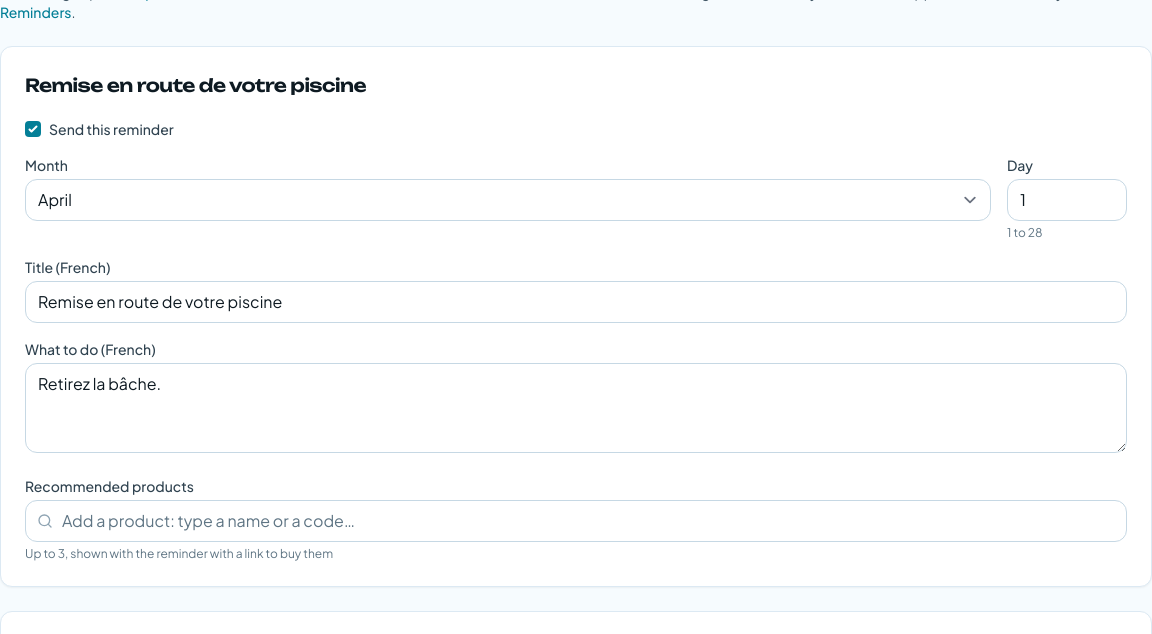
Test: admin reminders › edits the calendar in Settings → Reminders
This screenshot has width=1152, height=634.
Replace the text in the number field labelled "Day" with "15" at (1067, 200), box [1007, 179, 1127, 221]
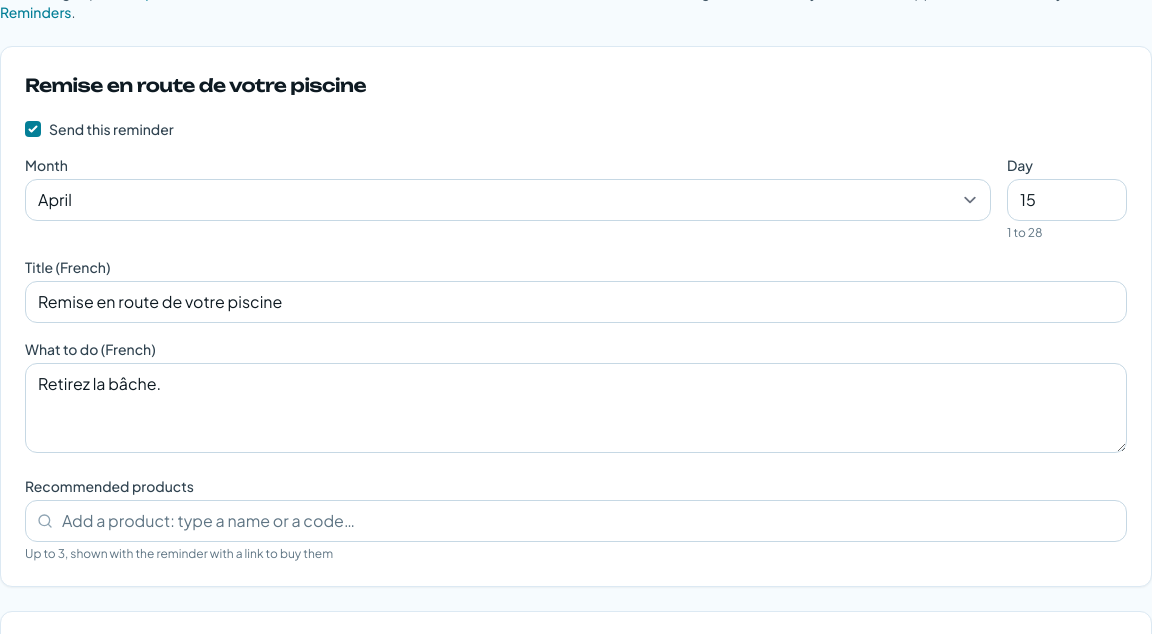
Select "March" in the dropdown labelled "Month" at (508, 200), box [25, 179, 991, 221]
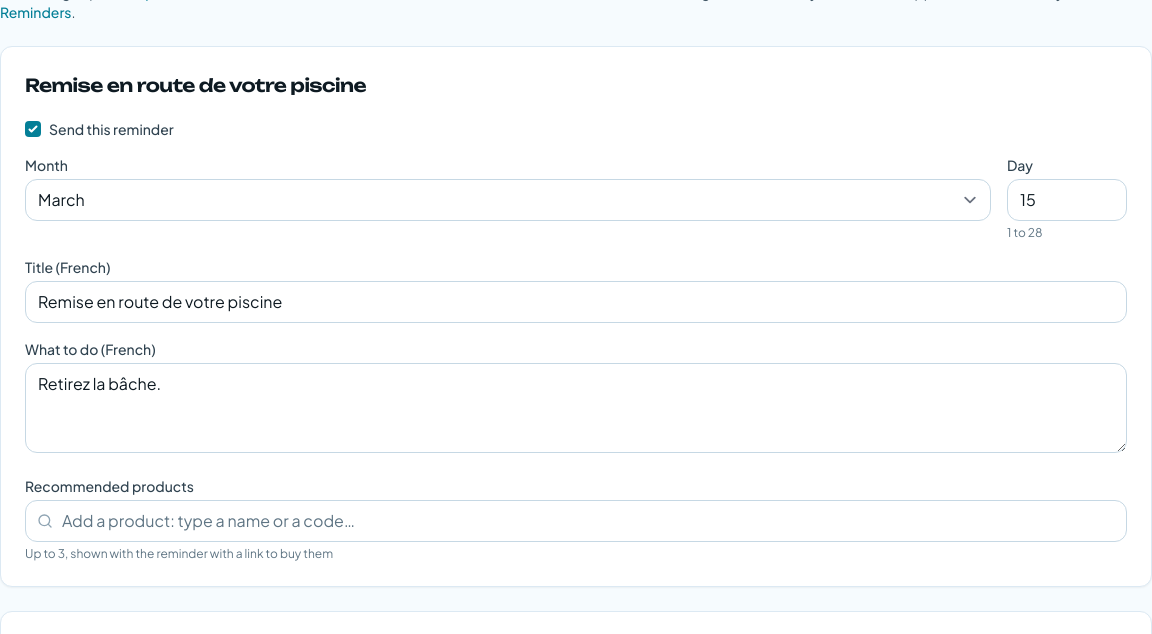
Type "chlore" into the dropdown with id "opening-products" at (576, 521), box [25, 500, 1127, 542]
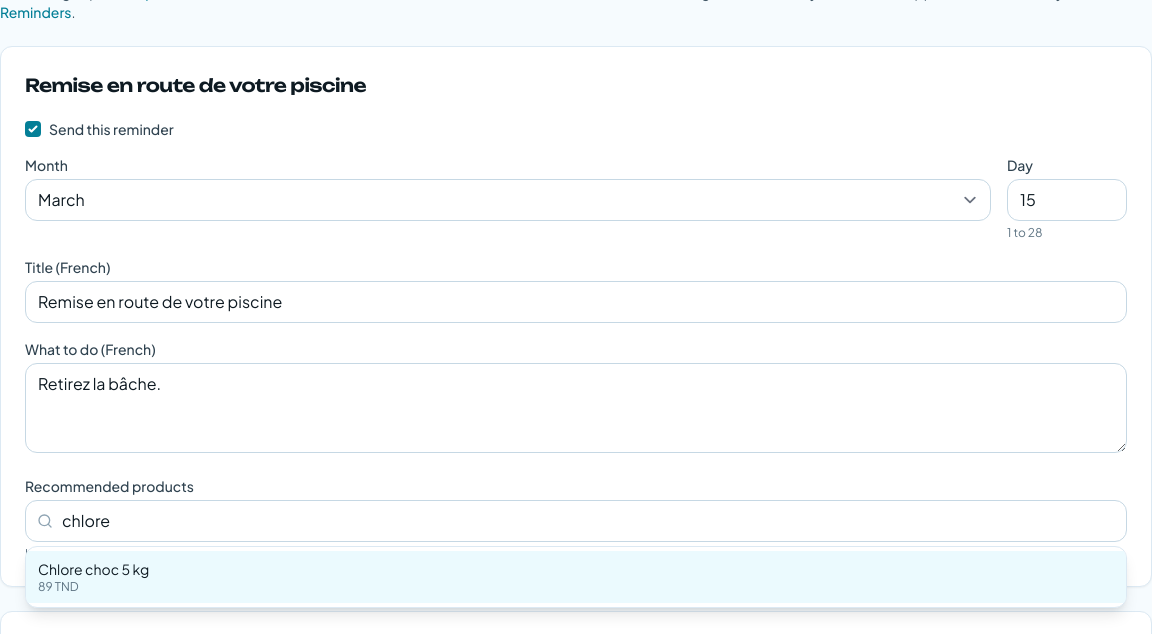
Press the mouse on the option "Chlore choc 5 kg 89 TND" at (94, 569), box [26, 551, 1126, 603]
(page scrolled)
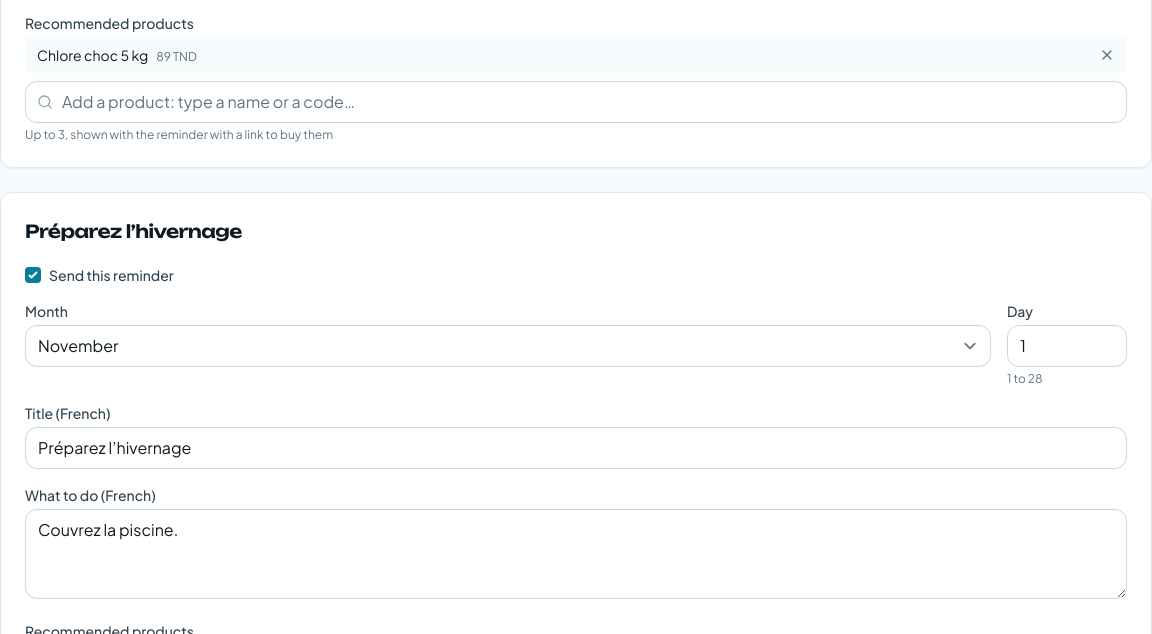
Click the checkbox labelled "Send this reminder" at (33, 275), box [25, 267, 41, 283]
(page scrolled)
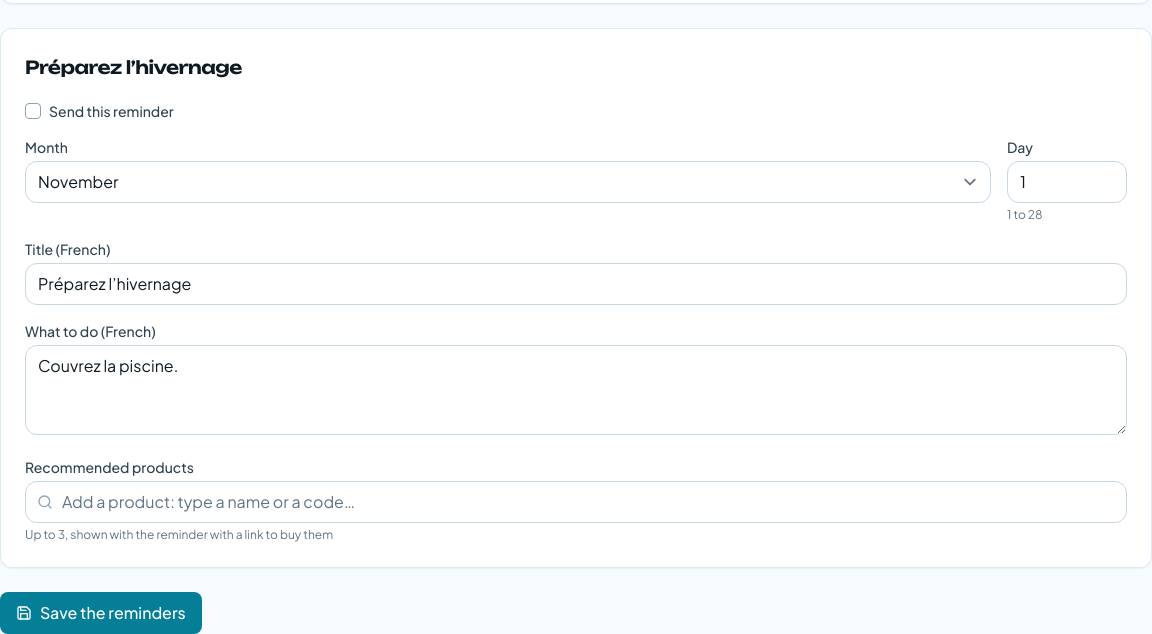
Click the button "Save the reminders" at (101, 613), box [0, 592, 202, 633]
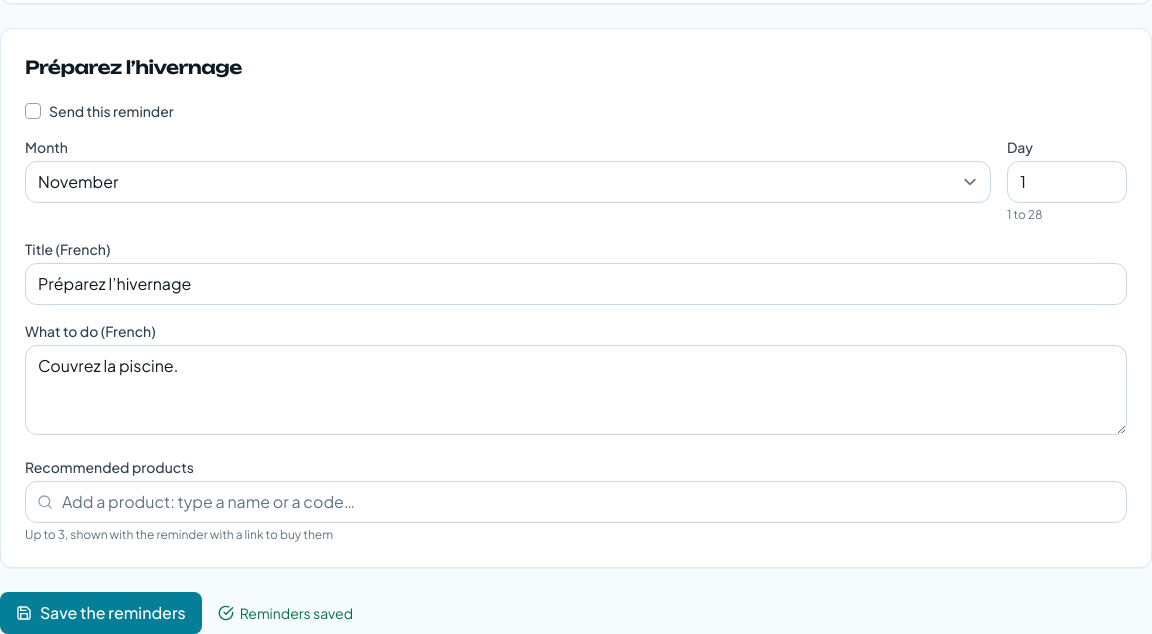
Now the message reads "Reminders saved", box [240, 604, 353, 622]
